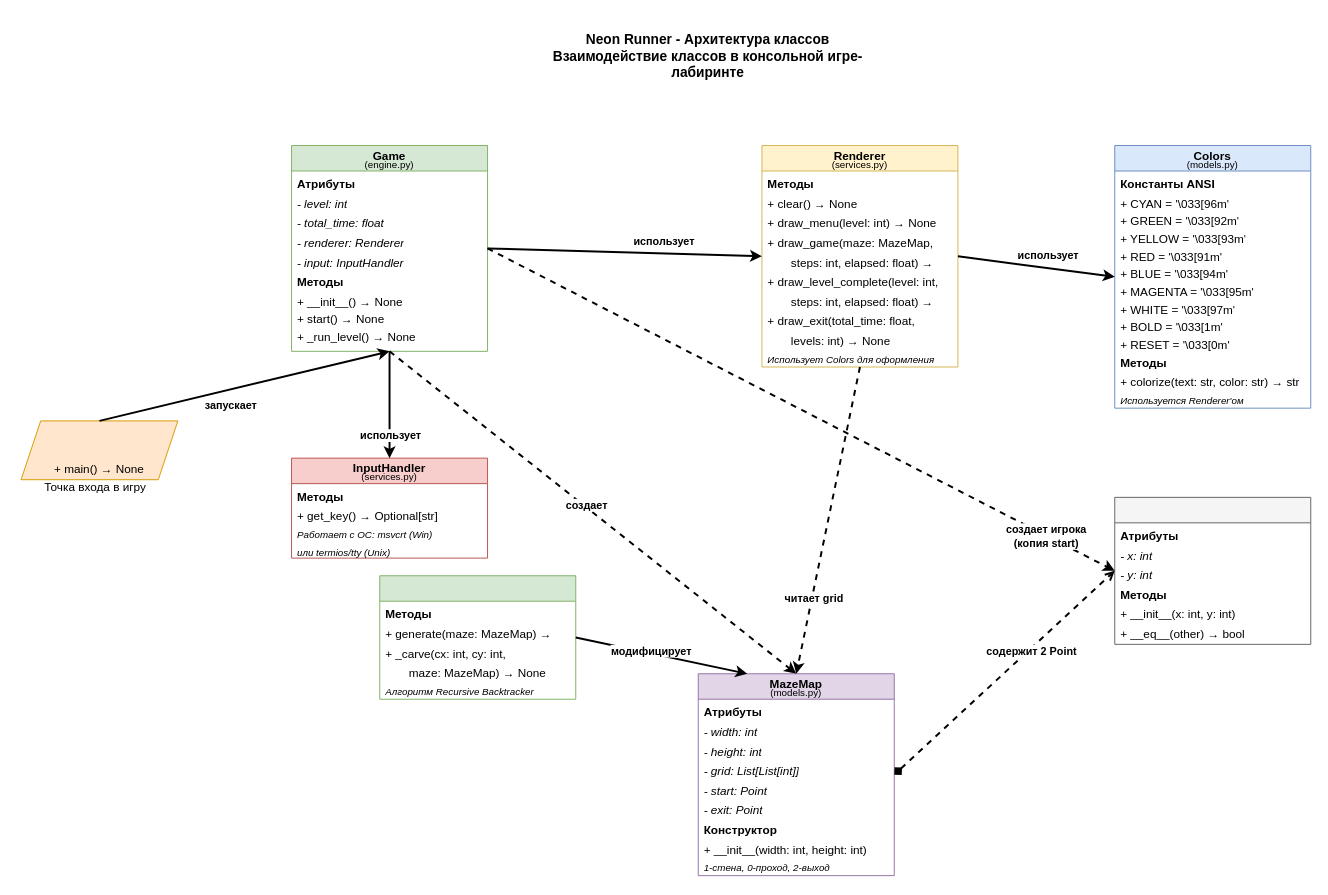
The diagram is 1328 pixels wide and 895 high, and some of its shapes have lost their labels. The shapes that lost their labels are listed below. From the top down, each one's box as (x1, y1, x2, y2) in pixels, then its label:
(20, 420, 178, 480): main.py
(1114, 496, 1311, 644): Point (models.py)
(379, 575, 576, 699): ManualGenerator (generator.py)
